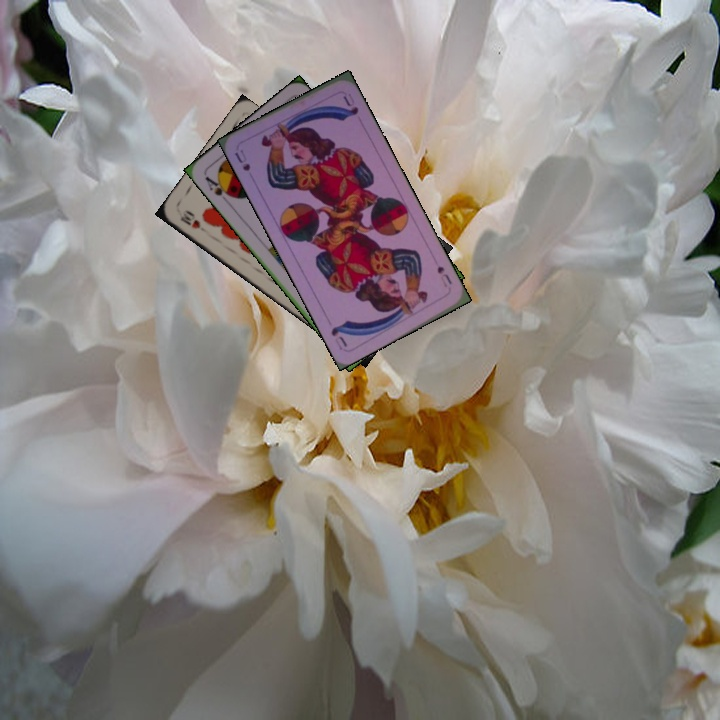H10: (176, 207, 203, 231)
SA: (201, 172, 236, 206)
SU: (230, 145, 253, 174), (433, 262, 455, 290)
